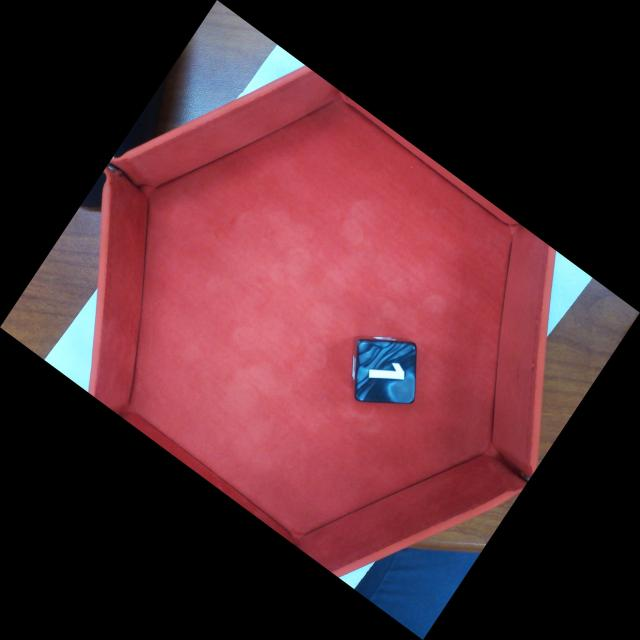dice: (359, 337, 419, 399)
